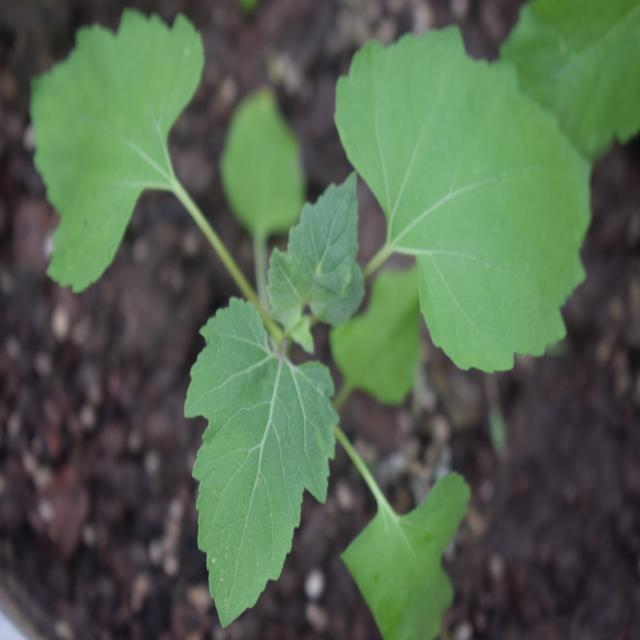cocklebur: (42, 0, 576, 584)
